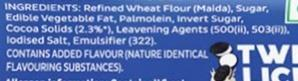ingredients: (2, 0, 295, 73)
